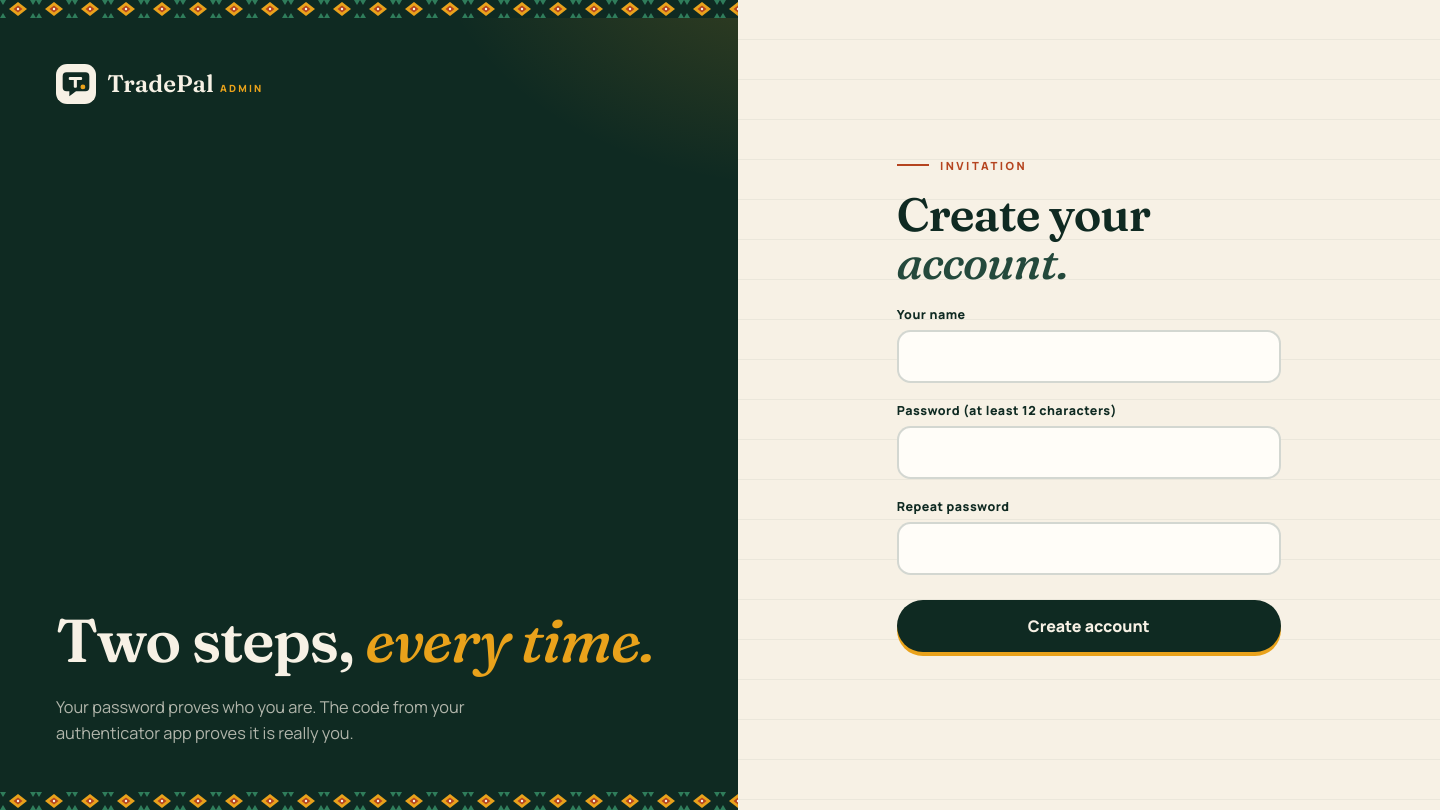
Test case: accepting an invitation › posts the token from the link fragment without a sign-in, then points to sign-in
Type "Ama Mensah" into the field labelled "Your name".
click(1089, 357); type("Ama Mensah")  # box [897,330,1281,384]
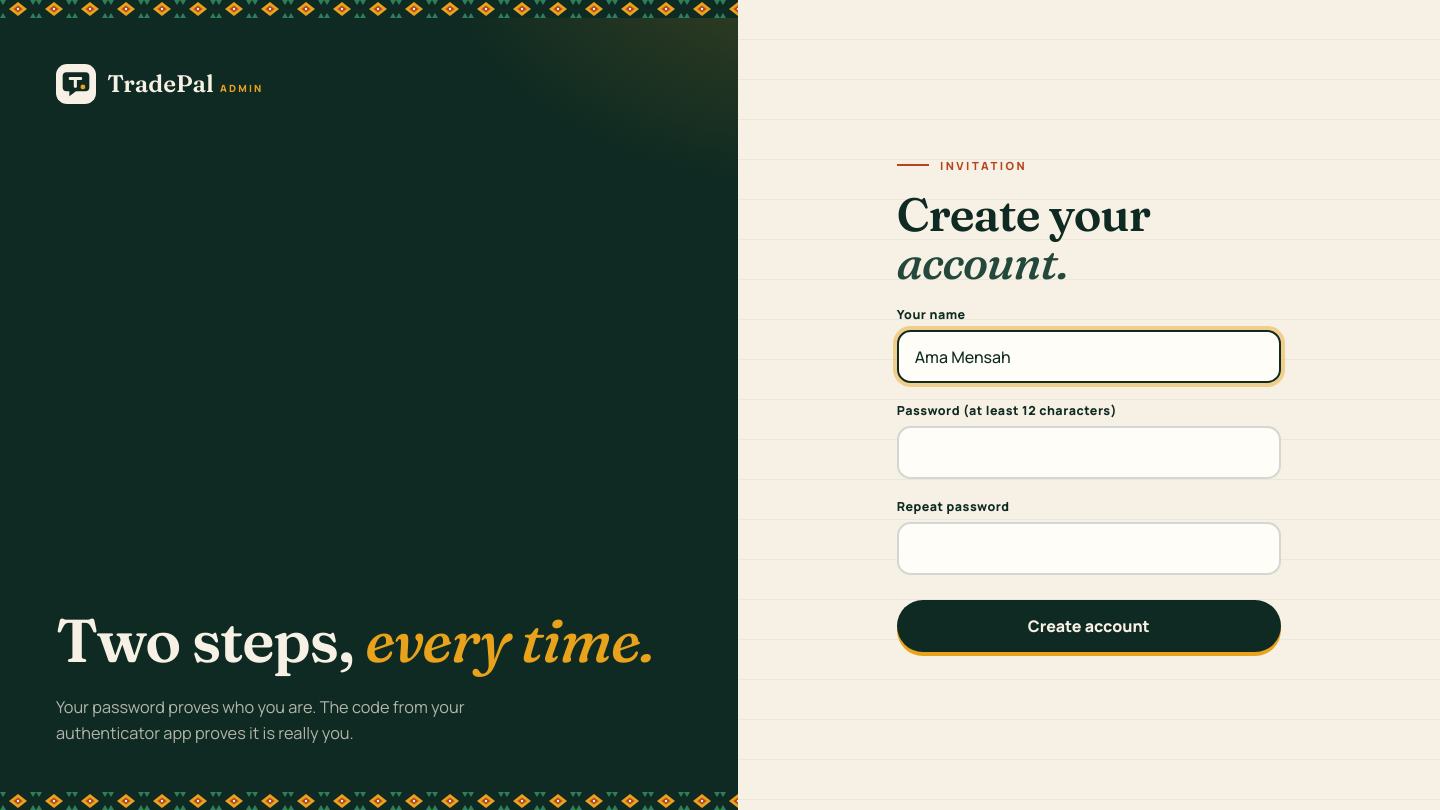
Type "a-long-password-1" into the password field labelled "Password (at least 12 characters)".
click(1089, 453); type("a-long-password-1")  # box [897,426,1281,479]
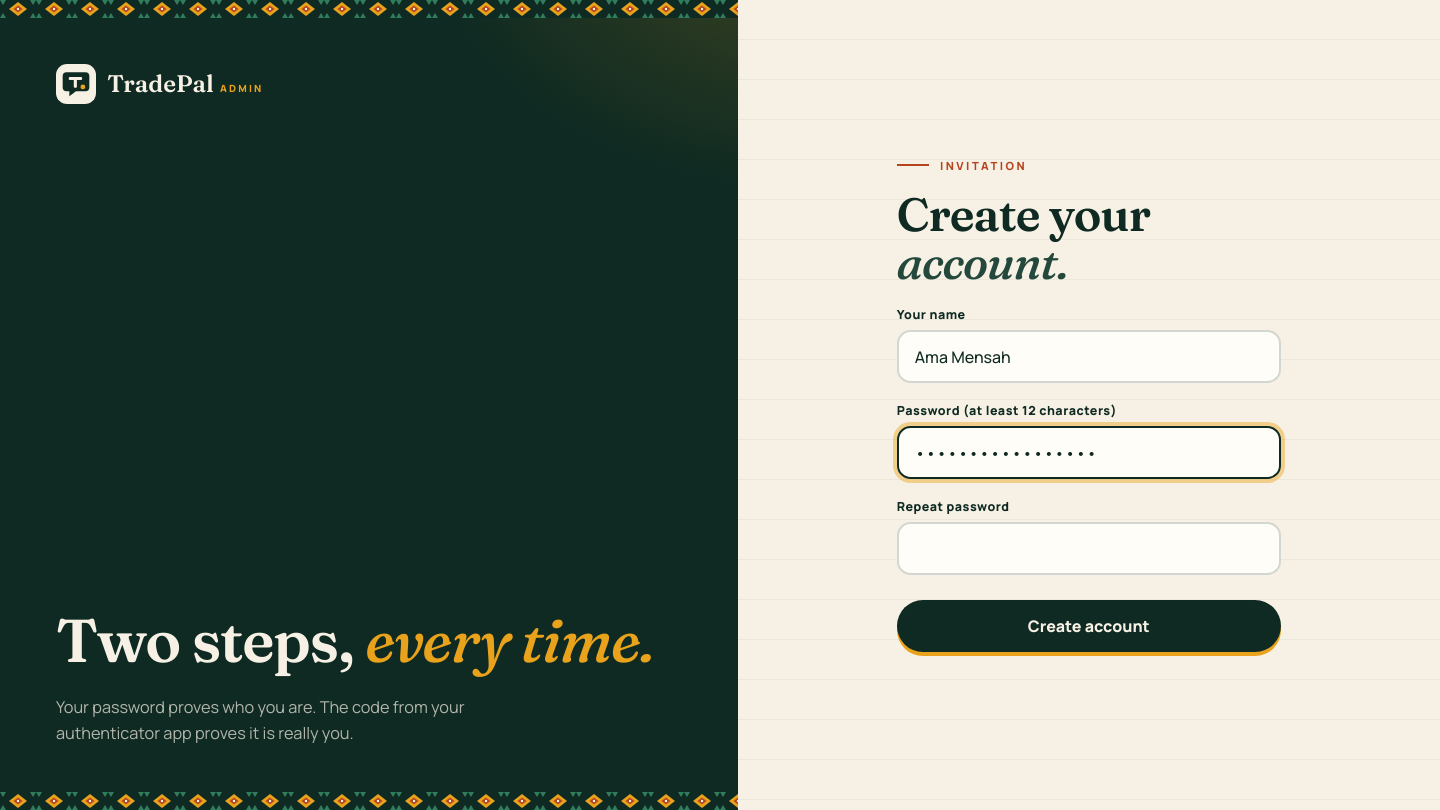
Type "a-long-password-1" into the password field labelled "Repeat password".
click(1089, 548); type("a-long-password-1")  # box [897,522,1281,575]
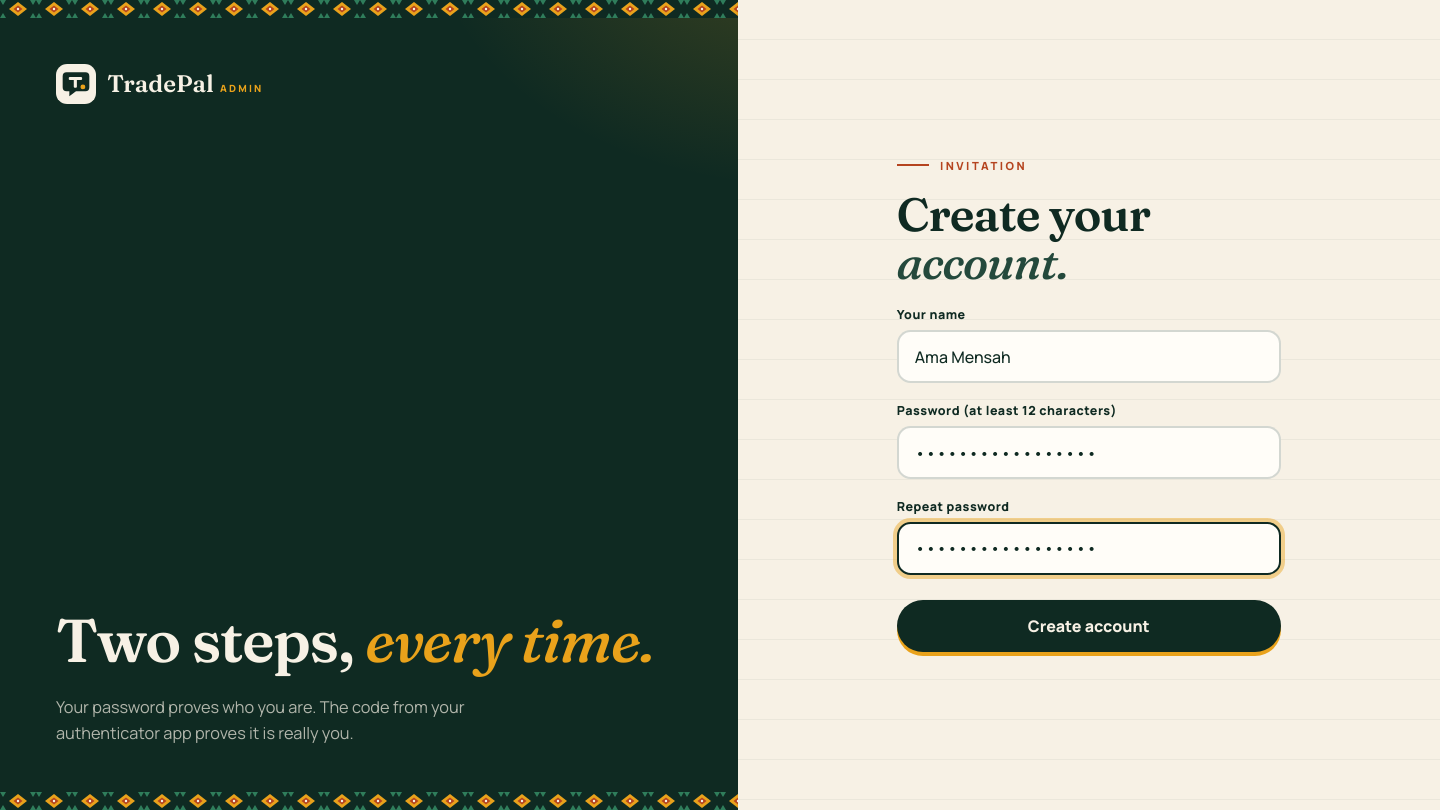
Click the button "Create account".
click(1089, 626)  # box [897,600,1281,652]
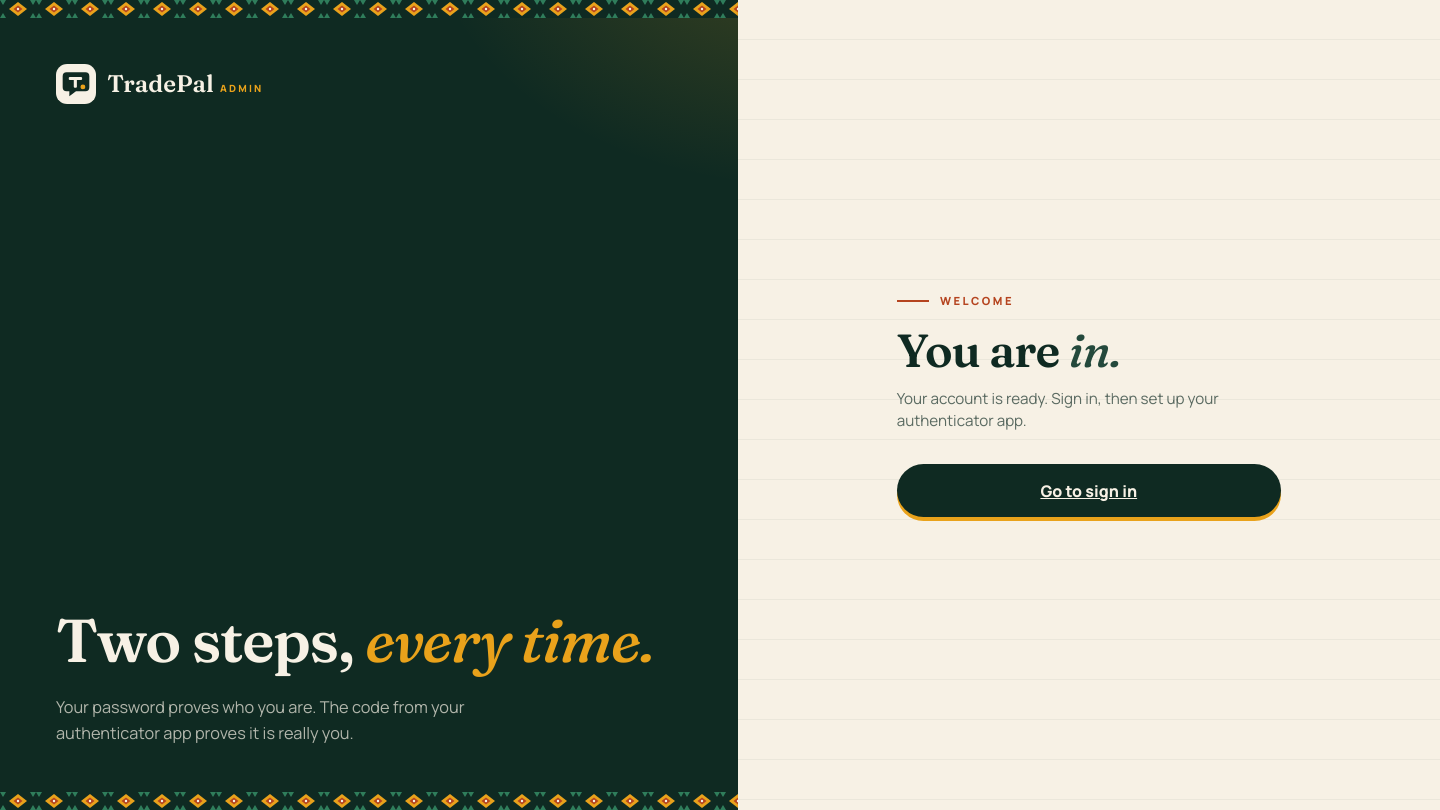
expect the text "Your account is ready" is shown: met, box [897,388,1219,431]
